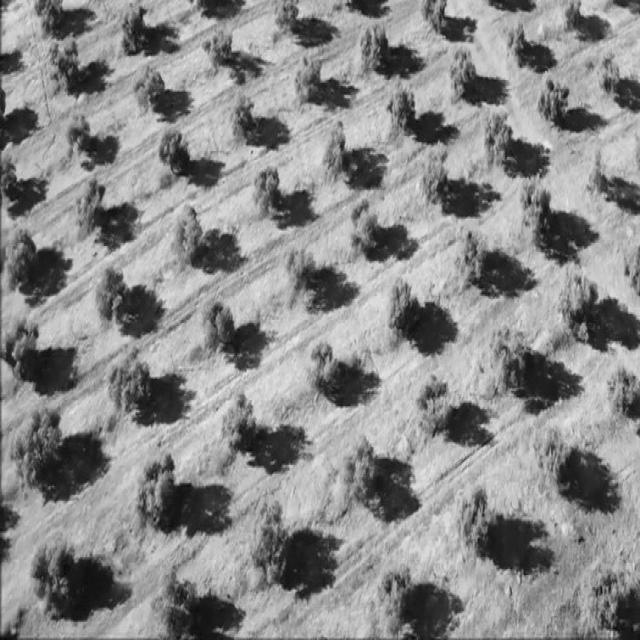trees: (576, 543, 638, 640), (5, 405, 63, 501), (104, 343, 156, 428), (24, 528, 76, 610), (554, 258, 602, 346), (247, 492, 290, 590), (484, 313, 534, 397), (453, 478, 500, 566), (130, 451, 179, 532), (147, 566, 199, 638), (339, 429, 382, 516), (530, 418, 576, 496), (370, 558, 412, 639), (519, 172, 558, 253), (0, 213, 39, 294), (414, 368, 455, 443), (602, 354, 640, 433), (217, 389, 258, 460), (386, 274, 424, 348), (87, 263, 128, 331), (0, 315, 41, 383), (170, 202, 209, 272), (454, 220, 494, 288), (197, 294, 238, 358), (481, 95, 516, 168), (70, 178, 108, 244), (322, 116, 357, 186), (536, 71, 574, 130), (129, 61, 168, 118), (418, 145, 452, 210), (346, 198, 382, 259), (250, 165, 286, 225), (592, 47, 628, 106), (48, 35, 84, 94), (310, 338, 344, 400), (446, 42, 481, 102), (116, 0, 151, 58), (356, 17, 392, 73), (281, 246, 317, 302), (155, 126, 193, 178), (201, 26, 236, 76), (292, 51, 326, 102), (386, 83, 418, 137), (619, 231, 640, 311), (63, 108, 93, 157), (228, 92, 258, 140), (586, 146, 612, 201), (500, 15, 529, 63), (417, 0, 453, 35), (29, 0, 68, 32), (270, 0, 304, 35), (554, 0, 586, 36)
